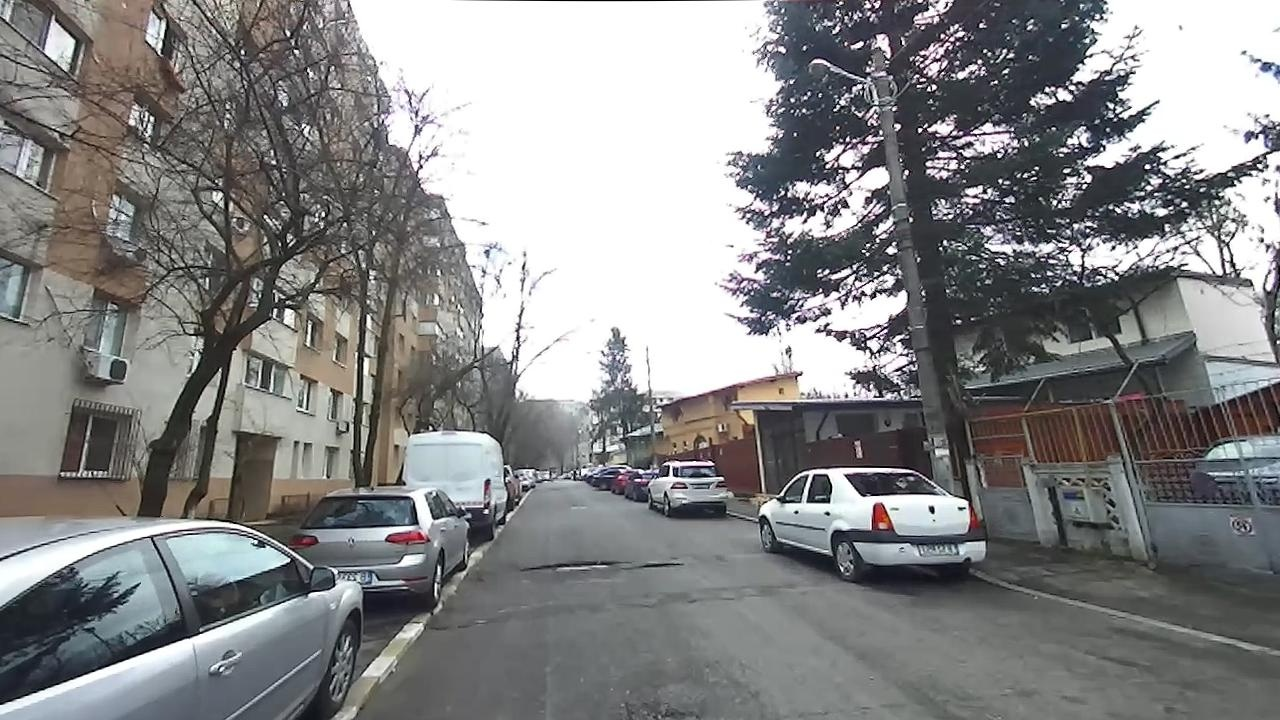pothole: (523, 560, 613, 574), (624, 708, 684, 720), (635, 561, 683, 568)
